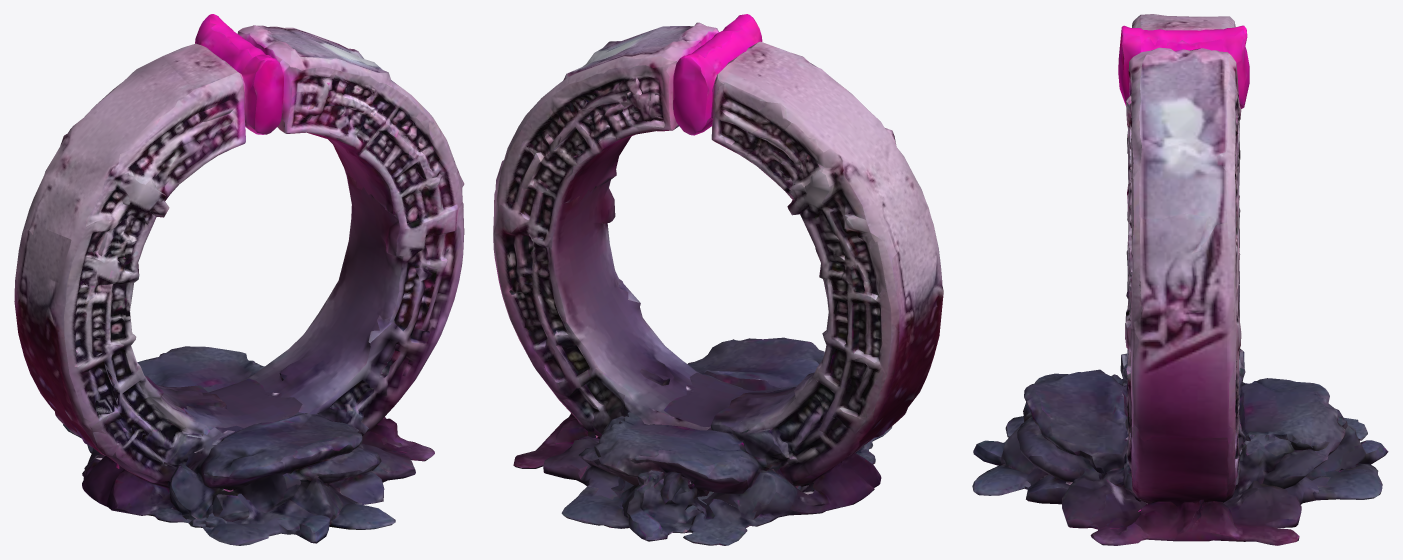
The model's file is well-of-urd-ring-generated-2026-05-17T17-55-13-924Z.low.glb.
The picture shows the model from 3 angles, left to right: view 1: azimuth 30°, elevation 25°; view 2: azimuth 150°, elevation 25°; view 3: azimuth 270°, elevation 25°; orthographic projection. The views are drawn at different scales.
Parts seen in each view (by area): view 1: temp_mesh.ply; view 2: temp_mesh.ply; view 3: temp_mesh.ply.
Boxes of the visible parts, bbox=[...] form: temp_mesh.ply: bbox=[14, 14, 464, 545]; temp_mesh.ply: bbox=[493, 14, 943, 545]; temp_mesh.ply: bbox=[972, 14, 1388, 545].
Size of the model in its own units: 1.96 by 1.95 by 1.66.
1 material, 1 textured.
